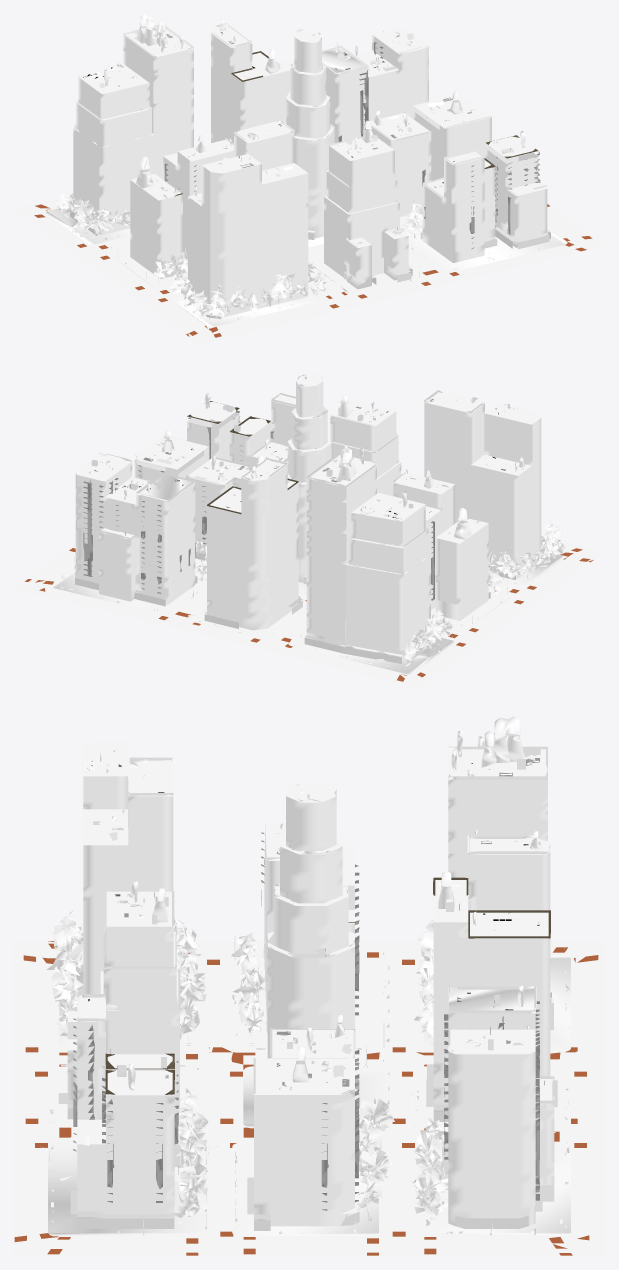
File: new-york-city-2026-horizon.glb
3 views of the same model, one above another, from view 1: azimuth 30°, elevation 25°; view 2: azimuth 150°, elevation 25°; view 3: azimuth 270°, elevation 25° (orthographic). The views are drawn at different scales.
Parts seen in each view (by area): view 1: CityGen_LR_Facades, CityGen_Streets, CityGenside_walks, CityGenroof.003, Building_Facade.001, CityGenroof.002, CityGenroof.001, FoliageTrees.002, Material.003, firescape, FoliageTrees.001, CityGen_Curb (+8 smaller); view 2: CityGen_LR_Facades, CityGen_Streets, Building_Facade.001, CityGenside_walks, CityGenroof.003, CityGenroof.002, CityGenroof.001, Material, firescape, CityGenbasic_dark_green, FoliageTrees.002, CityGen_Curb (+8 smaller); view 3: CityGen_LR_Facades, CityGen_Streets, CityGenside_walks, CityGenroof.003, CityGenroof.002, FoliageTrees.002, Building_Facade.001, CityGenbasic_dark_green, FoliageTrees.003, firescape, CityGenroof.001, CityGen_lanes_secondary_color (+11 smaller).
Part boxes in pixels (box(x1,y1,x2,y2)): CityGen_LR_Facades: box(73, 33, 547, 317); CityGen_Streets: box(14, 195, 604, 344); CityGenside_walks: box(45, 208, 567, 327); CityGenroof.003: box(125, 27, 537, 248); Building_Facade.001: box(123, 35, 193, 179); CityGenroof.002: box(130, 24, 491, 200); CityGenroof.001: box(74, 45, 546, 239); FoliageTrees.002: box(55, 191, 422, 319); Material.003: box(136, 23, 462, 202); firescape: box(164, 31, 540, 249); FoliageTrees.001: box(64, 193, 313, 309); CityGen_Curb: box(69, 25, 443, 325); CityGen_LR_Facades: box(75, 381, 541, 662); CityGen_Streets: box(14, 537, 604, 687); Building_Facade.001: box(306, 465, 376, 641); CityGenside_walks: box(51, 553, 563, 674); CityGenroof.003: box(75, 392, 541, 520); CityGenroof.002: box(135, 374, 488, 543); CityGenroof.001: box(100, 390, 530, 574); Material: box(75, 552, 543, 663); firescape: box(83, 403, 514, 600); CityGenbasic_dark_green: box(31, 541, 573, 674); FoliageTrees.002: box(204, 519, 563, 663); CityGen_Curb: box(99, 373, 562, 660); CityGen_LR_Facades: box(67, 776, 554, 1226); CityGen_Streets: box(14, 940, 604, 1255); CityGenside_walks: box(48, 954, 570, 1236); CityGenroof.003: box(67, 740, 547, 1095); CityGenroof.002: box(77, 786, 550, 1094); FoliageTrees.002: box(51, 910, 553, 1212); Building_Facade.001: box(448, 779, 547, 877); CityGenbasic_dark_green: box(14, 940, 604, 1255); FoliageTrees.003: box(54, 924, 444, 1215); firescape: box(73, 761, 539, 1210); CityGenroof.001: box(67, 757, 554, 1144); CityGen_lanes_secondary_color: box(14, 941, 598, 1255).
Size of the model in its own units: 248 by 112 by 196.
